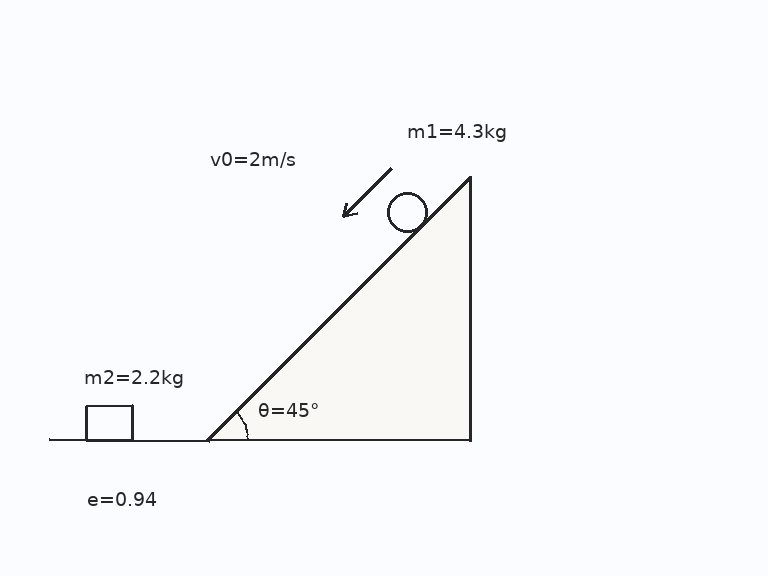ball: (385, 190, 429, 234)
block: (84, 404, 134, 442)
ramp: (206, 176, 472, 442)
